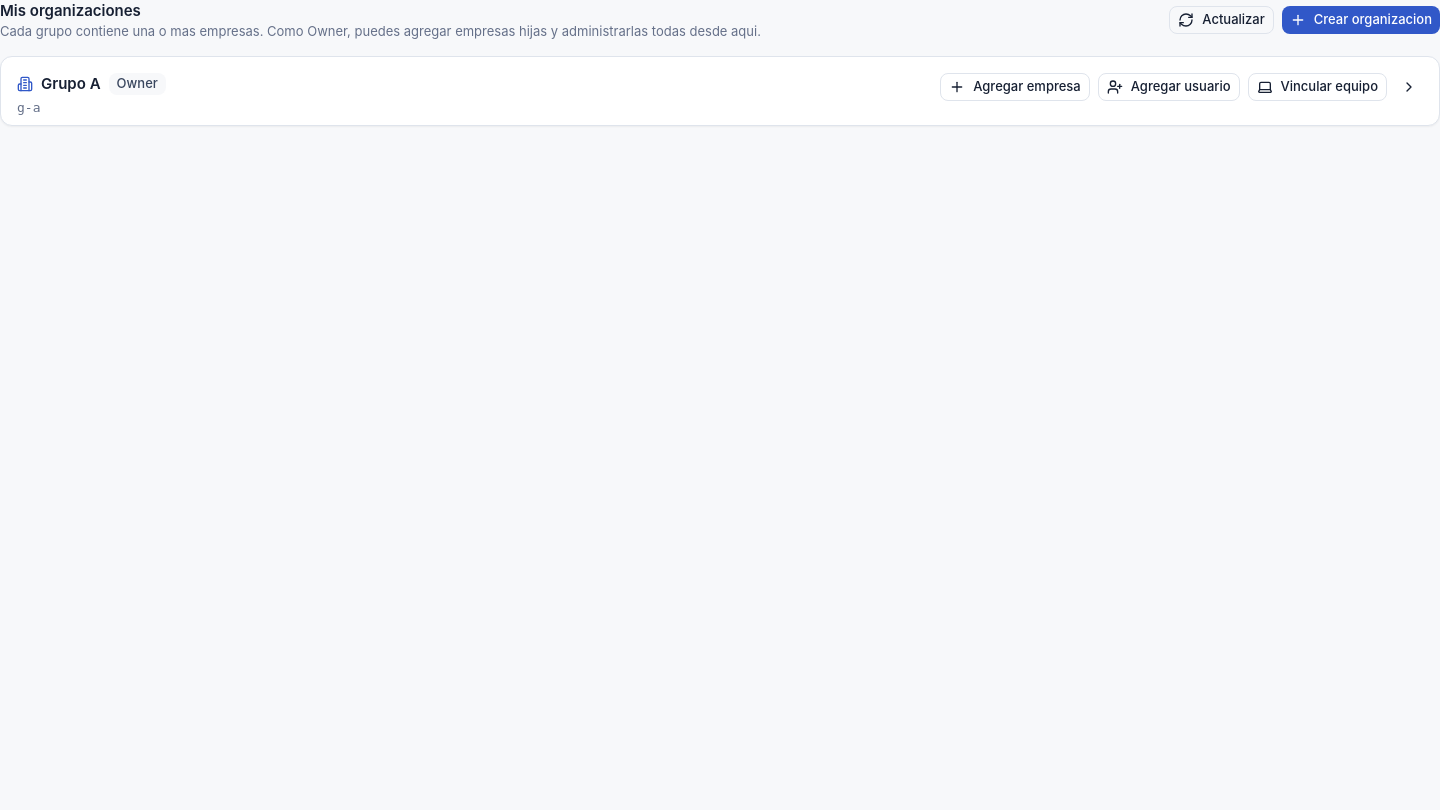
Test: GroupsTree › expande y muestra spinoffs al click en toggle
Click the button with test id "group-toggle-1" at (1409, 87), box [1395, 73, 1423, 101]
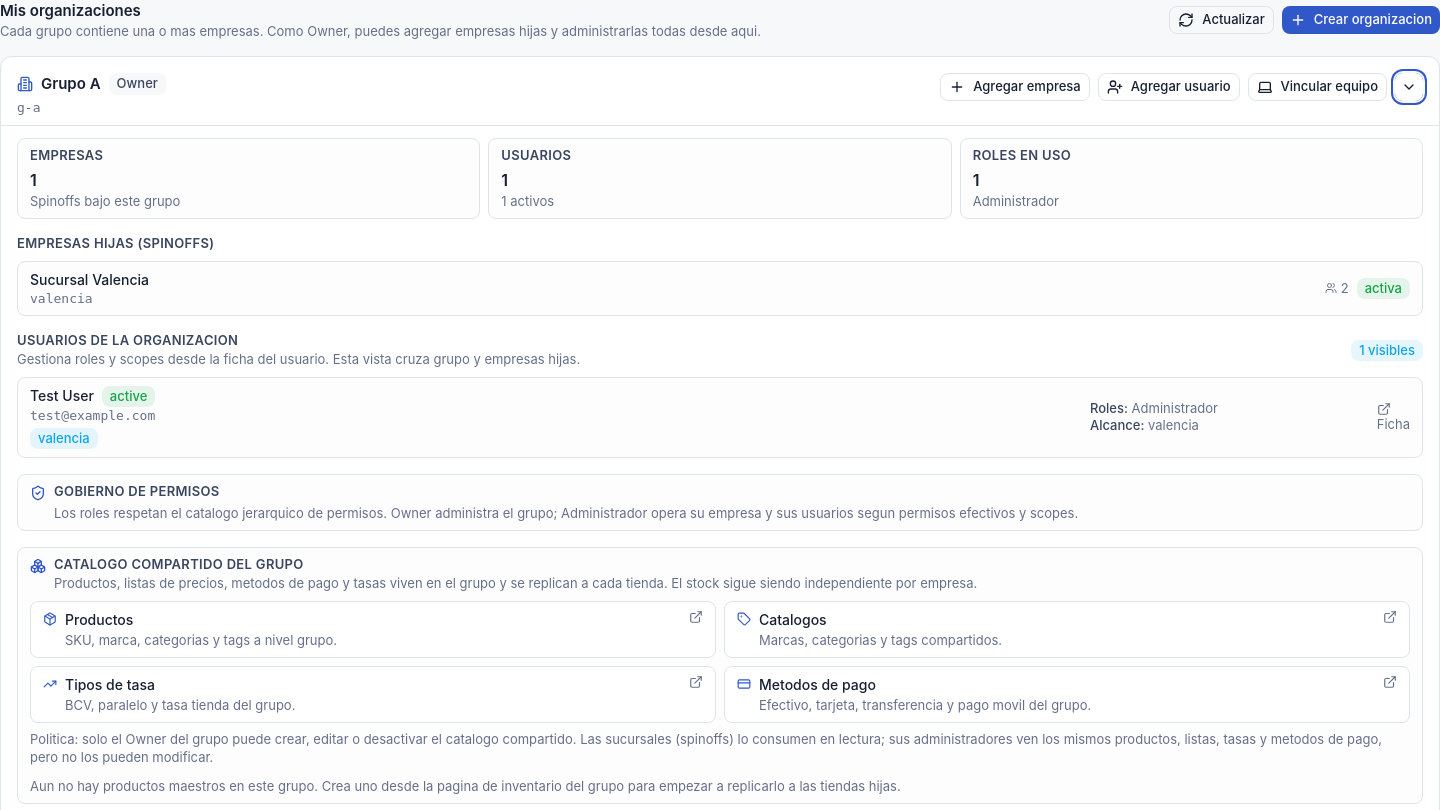
Now the text "Sucursal Valencia" is shown, box [30, 270, 149, 288]
Now the text "valencia" below "Sucursal Valencia" is shown, box [30, 290, 93, 306]
Now the text "Test User" is shown, box [30, 386, 94, 406]
